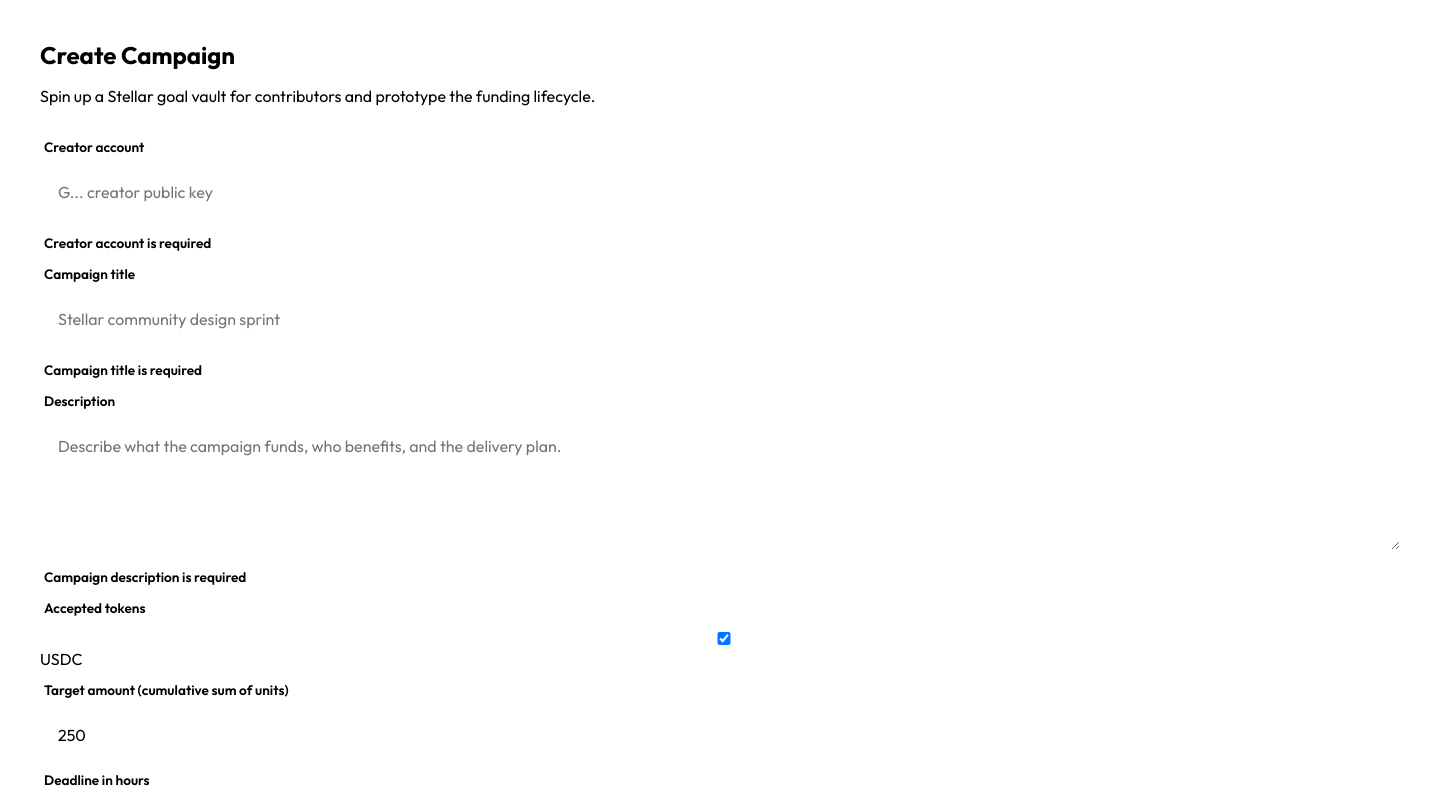
Test case: CreateCampaignForm › Field Validation - Title › shows error for title too short
The image size is (1440, 802).
Type "Hi" into the field with placeholder "Stellar community design sprint". click: [720, 319]
box: [40,295,1400,343]
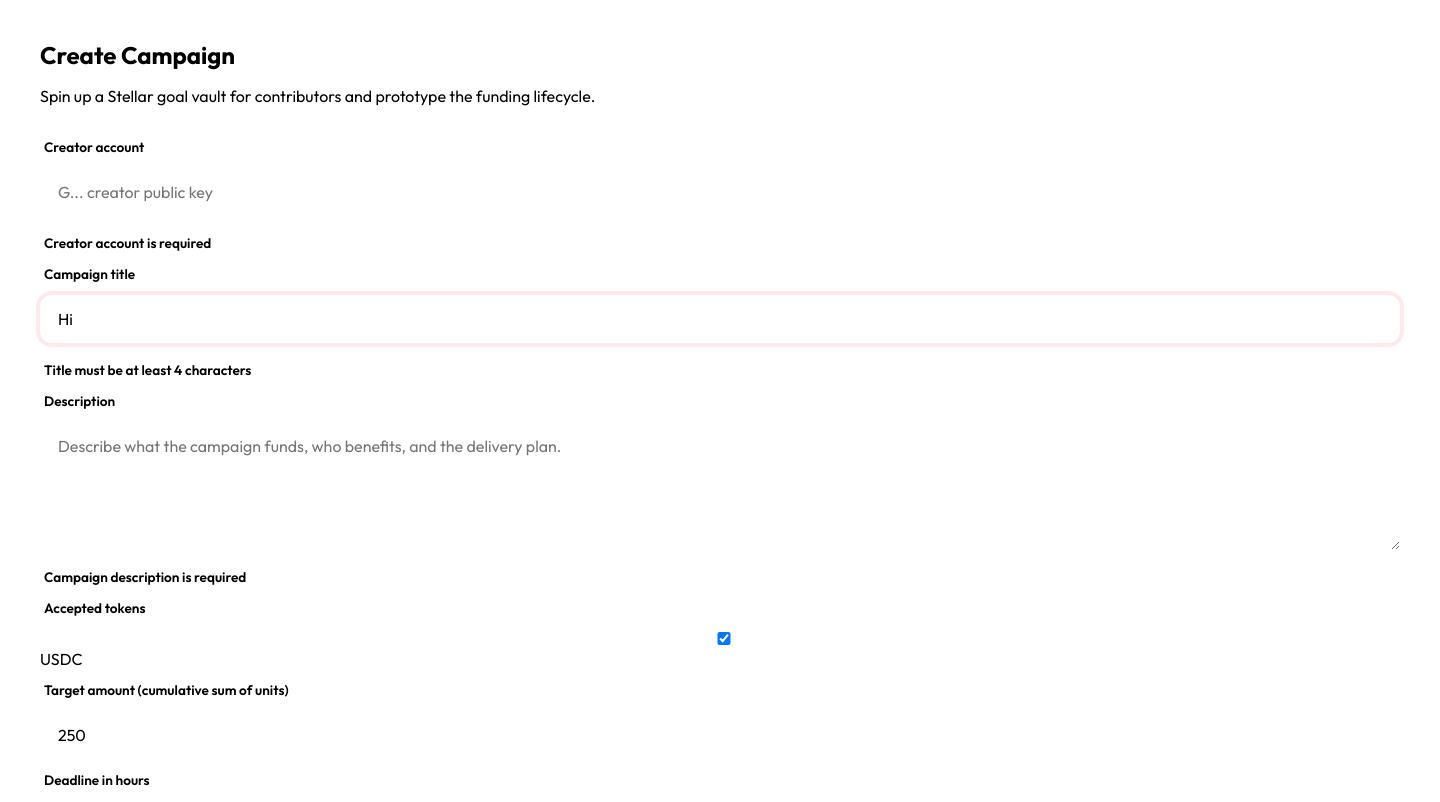
Check: the text "Title must be at least 4 characters" is shown, box [44,361,251,379]
